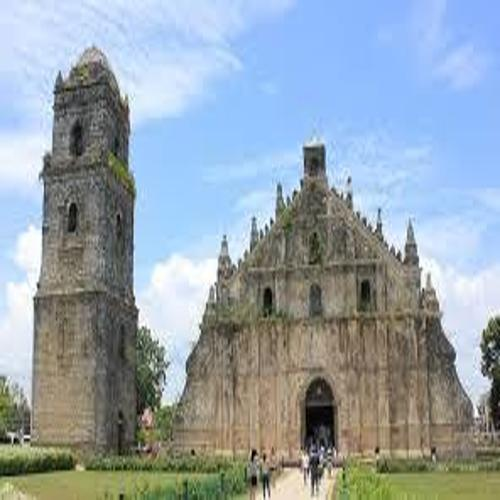Paoay Church: (18, 37, 485, 472)
